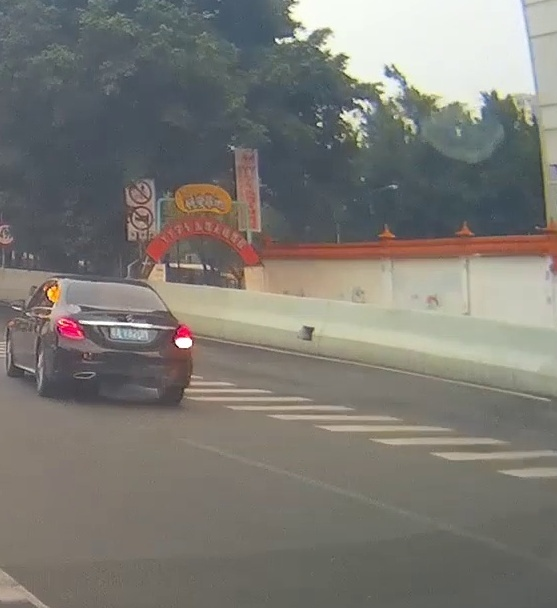L_light: (55, 318, 84, 340)
R_light: (173, 323, 192, 348)
T_light: (105, 283, 124, 288)
day-right: (48, 274, 194, 404)
